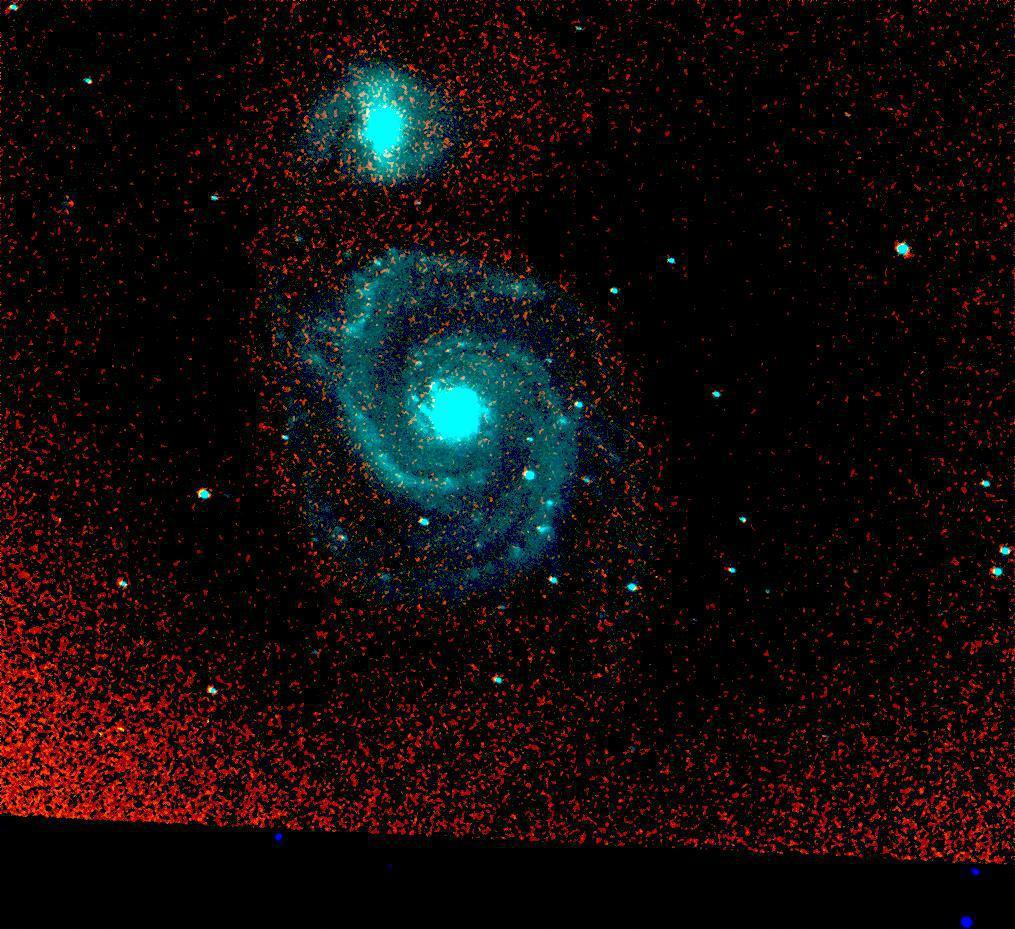star: (437, 371, 467, 401)
